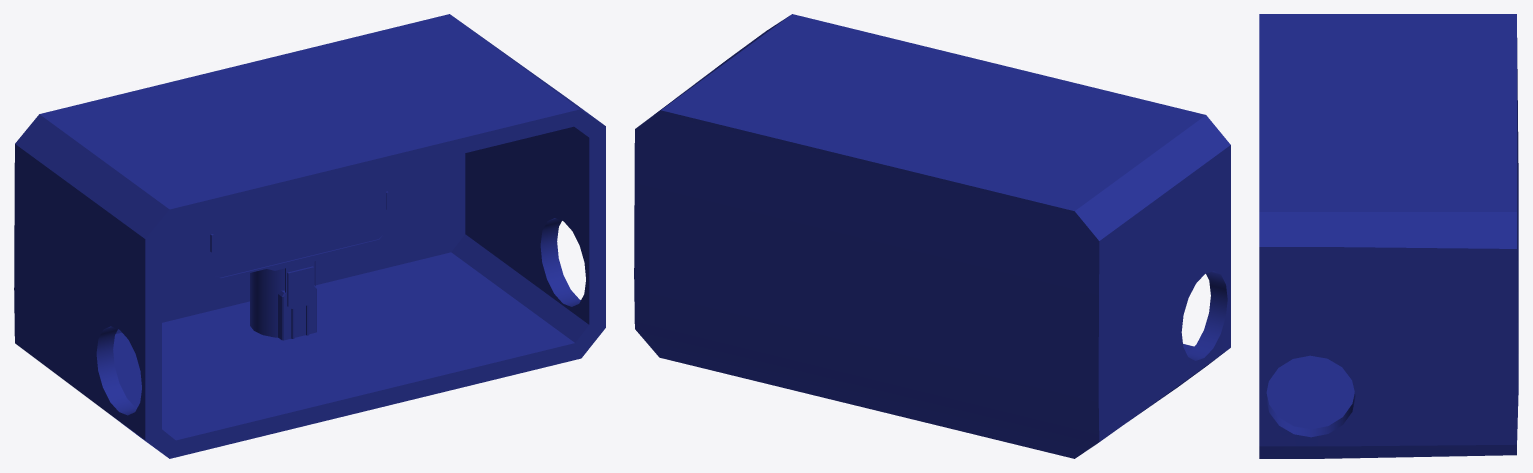
The model's file is Sala5-Tienda-02.fbx.
3 renders of one model, left to right at view 1: azimuth 30°, elevation 25°; view 2: azimuth 150°, elevation 25°; view 3: azimuth 270°, elevation 25°, orthographic. The views are drawn at different scales.
Parts seen in each view (by area): view 1: sala5, tienda; view 2: sala5; view 3: sala5.
Part boxes in pixels (box(x1,y1,x2,y2)): sala5: box(14, 14, 605, 458); tienda: box(210, 172, 388, 340); sala5: box(634, 14, 1230, 458); sala5: box(1259, 14, 1518, 458).
Bounding box in the file's own units: 1310 × 678 × 646.
